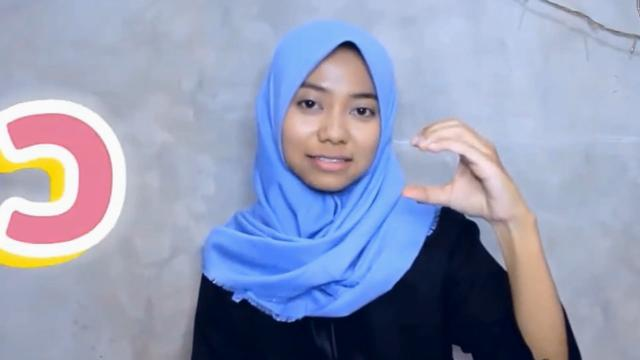C: (401, 117, 529, 231)
